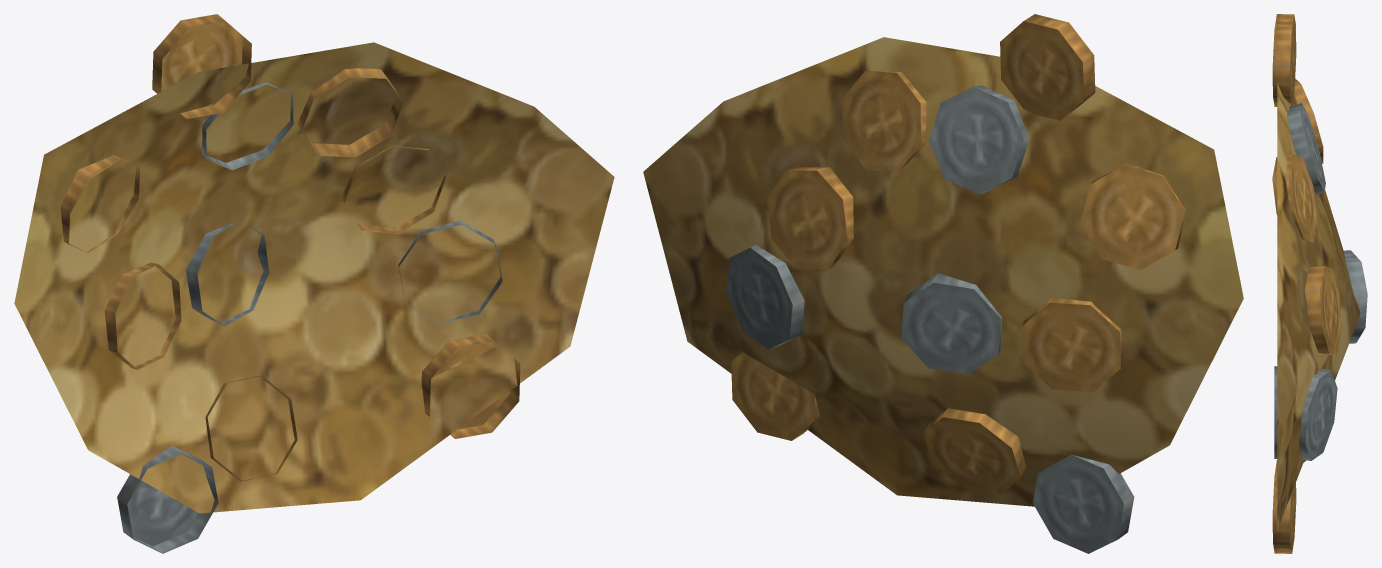
File: Gold_Stack_B.fbx
3 renders of one model, left to right at view 1: azimuth 30°, elevation 25°; view 2: azimuth 150°, elevation 25°; view 3: azimuth 270°, elevation 25°, orthographic. The views are drawn at different scales.
Visible parts, largest first — view 1: Gold_Stack_B; view 2: Gold_Stack_B; view 3: Gold_Stack_B.
Boxes of the visible parts, box(x1,y1,x2,y2) form: Gold_Stack_B: box(14, 14, 614, 553); Gold_Stack_B: box(643, 14, 1243, 553); Gold_Stack_B: box(1272, 14, 1367, 553).
Size of the model in its own units: 1.1 by 0.9029 by 0.1745.
